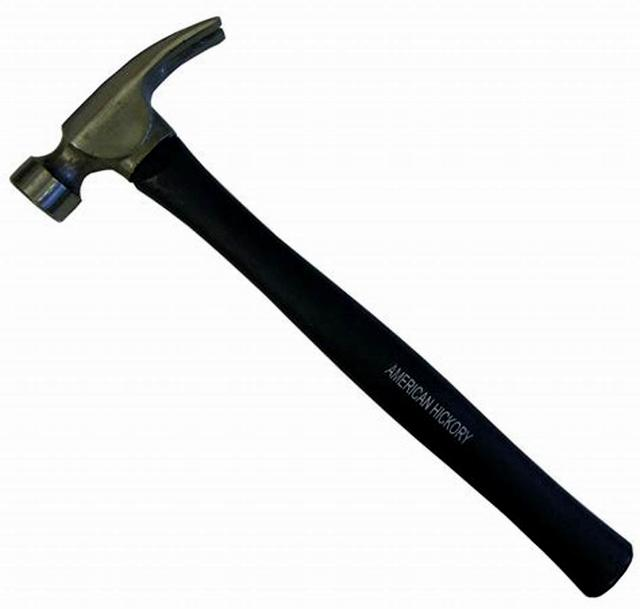hammer: (0, 8, 639, 609)
